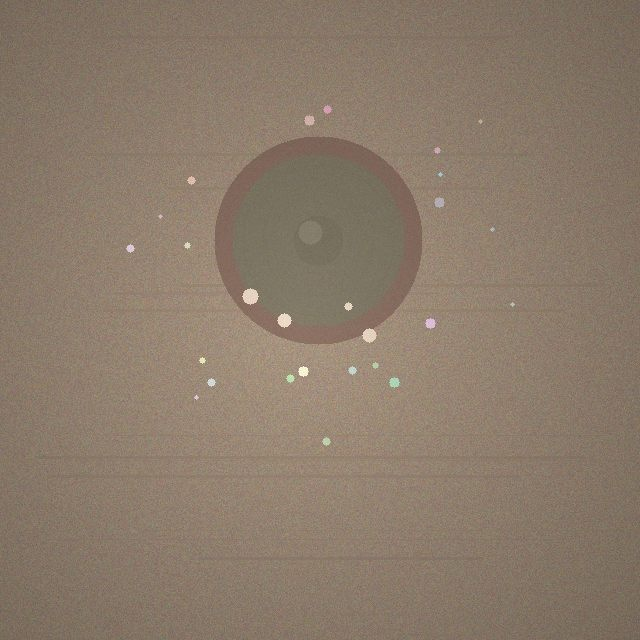overburn: (214, 136, 422, 344)
